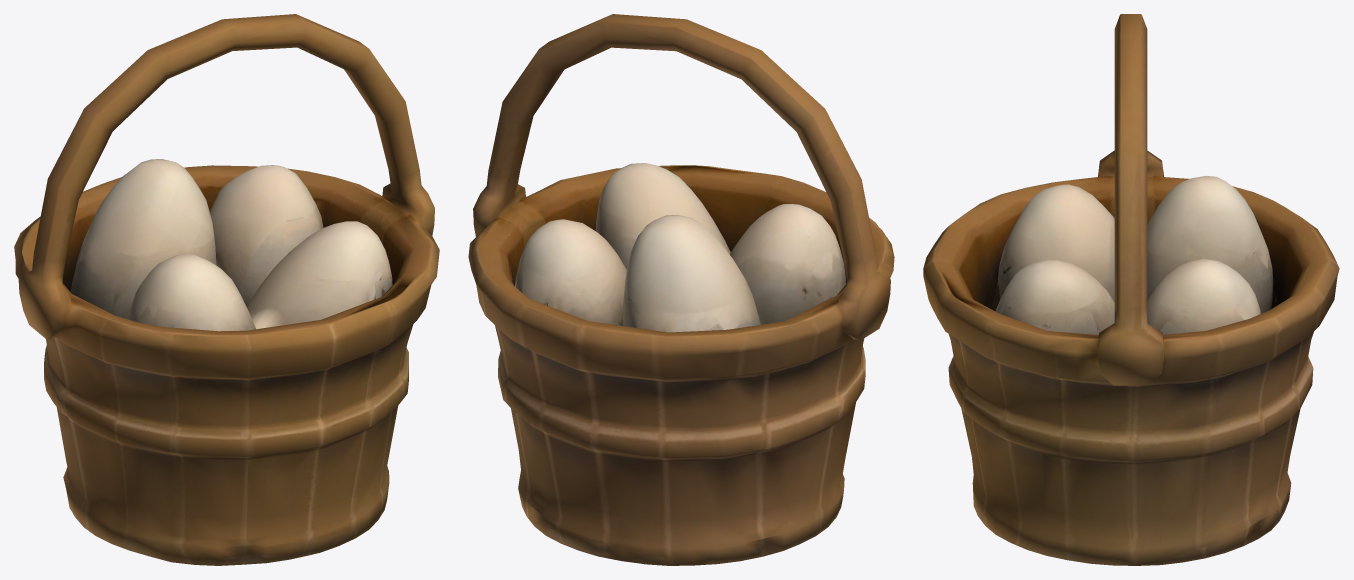
File: eggs.glb
3 views of the same model, side by side, from view 1: azimuth 30°, elevation 25°; view 2: azimuth 150°, elevation 25°; view 3: azimuth 270°, elevation 25° (orthographic). The views are drawn at different scales.
Size of the model in its own units: 1.62 by 1.91 by 1.55.
1 material, 1 textured.
